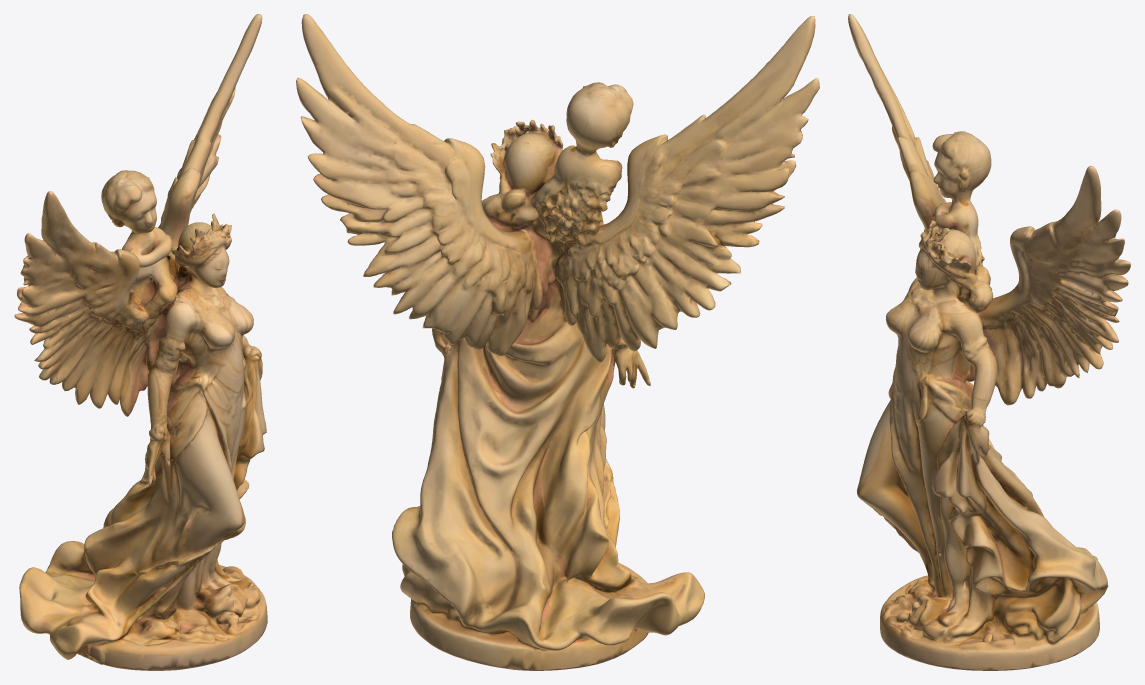
Rendered from HYBRID_QUEEN2.glb.
The picture shows the model from 3 angles, left to right: view 1: azimuth 30°, elevation 25°; view 2: azimuth 150°, elevation 25°; view 3: azimuth 270°, elevation 25°; orthographic projection. The views are drawn at different scales.
Bounding box in the file's own units: 1.35 × 2 × 0.9493.
Materials: 1 (1 with a texture image).
